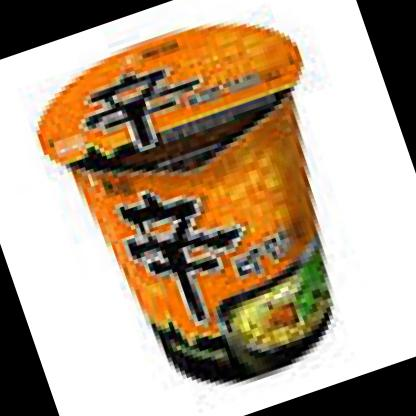Ramen: (16, 0, 400, 416)
